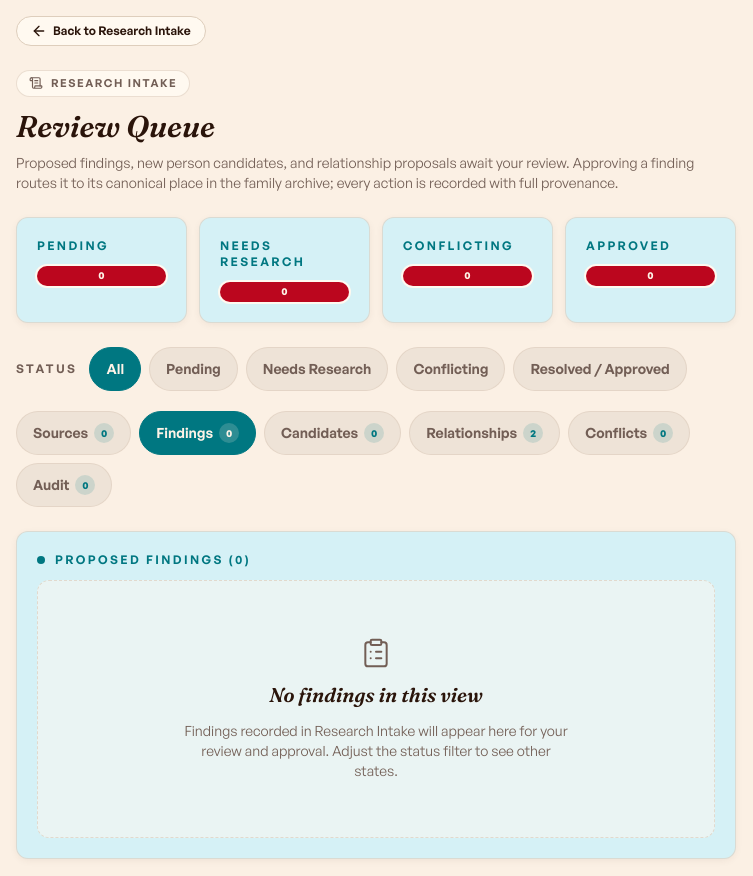
Test: Review Queue Relationships count: non-default family is family-filtered (cover) › counts only the proposals listRelationshipProposalsForFamily(familyId) returns
Check: the heading "Review Queue" is shown, box x1=16 y1=108 x2=215 y2=144
Click the button with test id "research_queue.tab.relationships" at (485, 432), box x1=409 y1=410 x2=560 y2=454
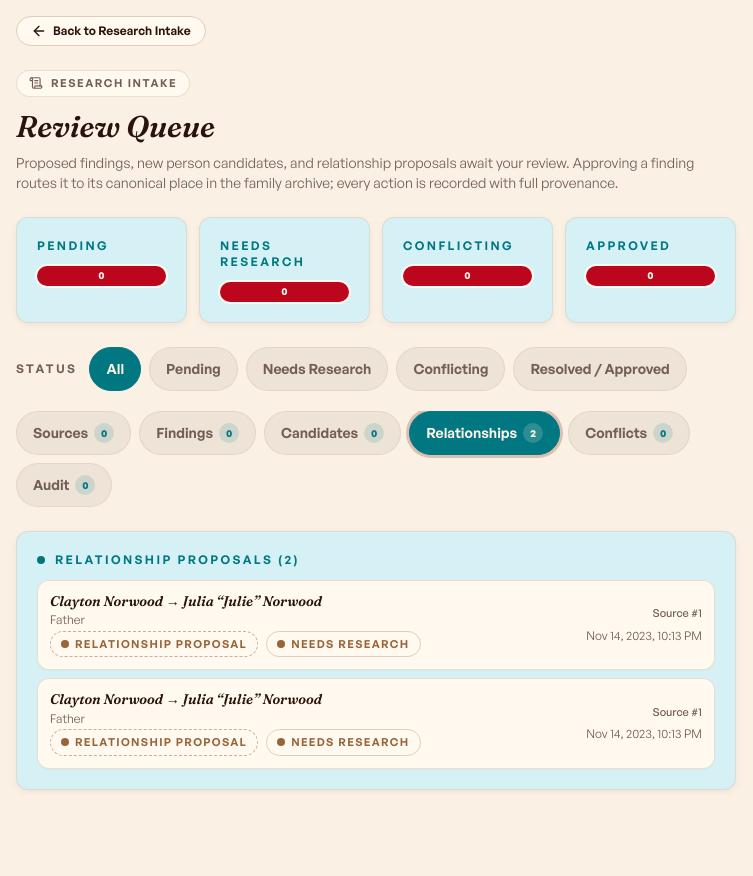
Check: the text "2" is shown, box x1=523 y1=422 x2=543 y2=442
Check: the text "Relationship Proposals (2)" is shown, box x1=55 y1=552 x2=300 y2=568
